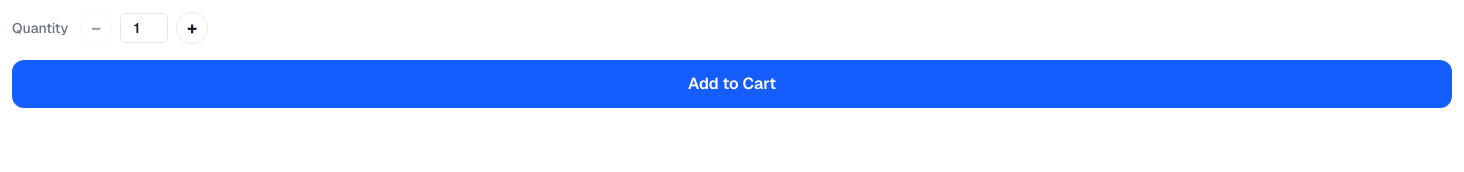
AddToCartButton › clicking increment increases displayed quantity
Click the button named "Increase quantity" at (192, 28), box [176,12,208,44]
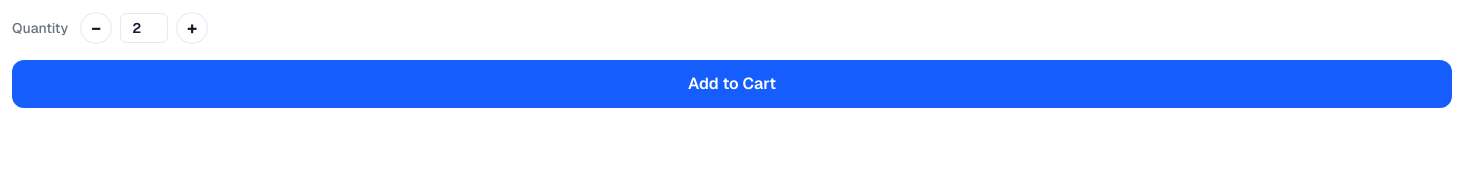
expect the number field named "Quantity" holds "2": met, box [120,13,168,43]
